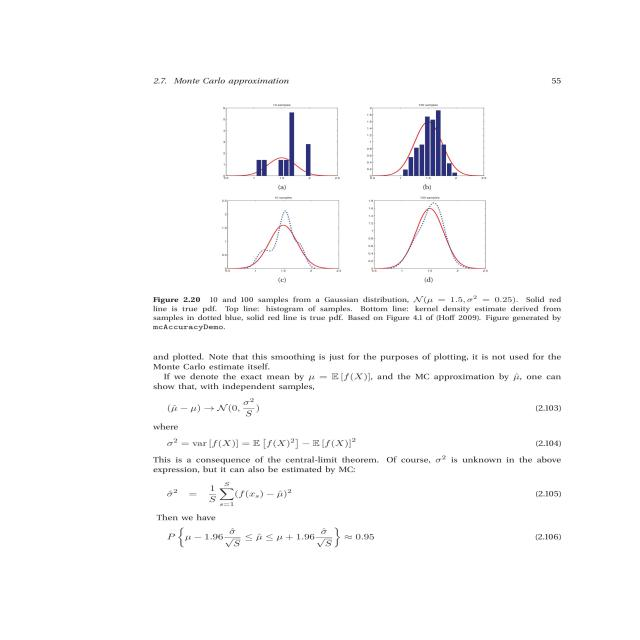diagram: (198, 90, 533, 284)
